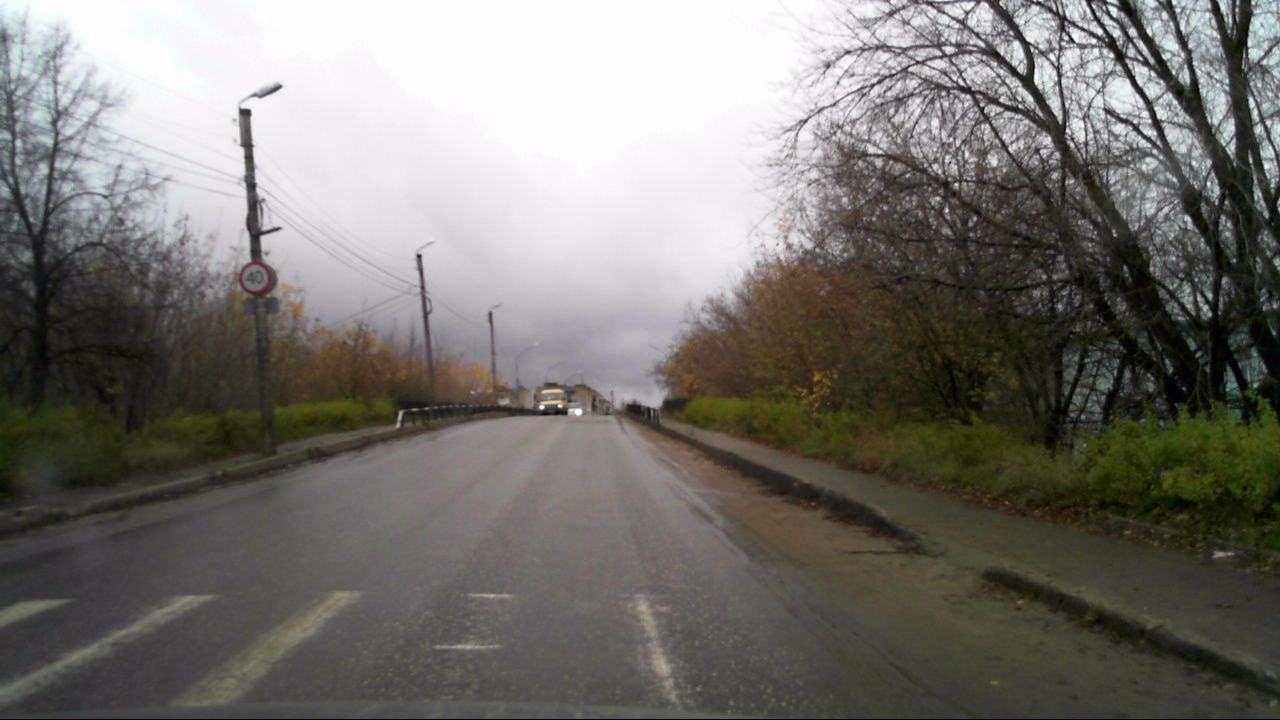speed_warning_40: (238, 261, 273, 296)
